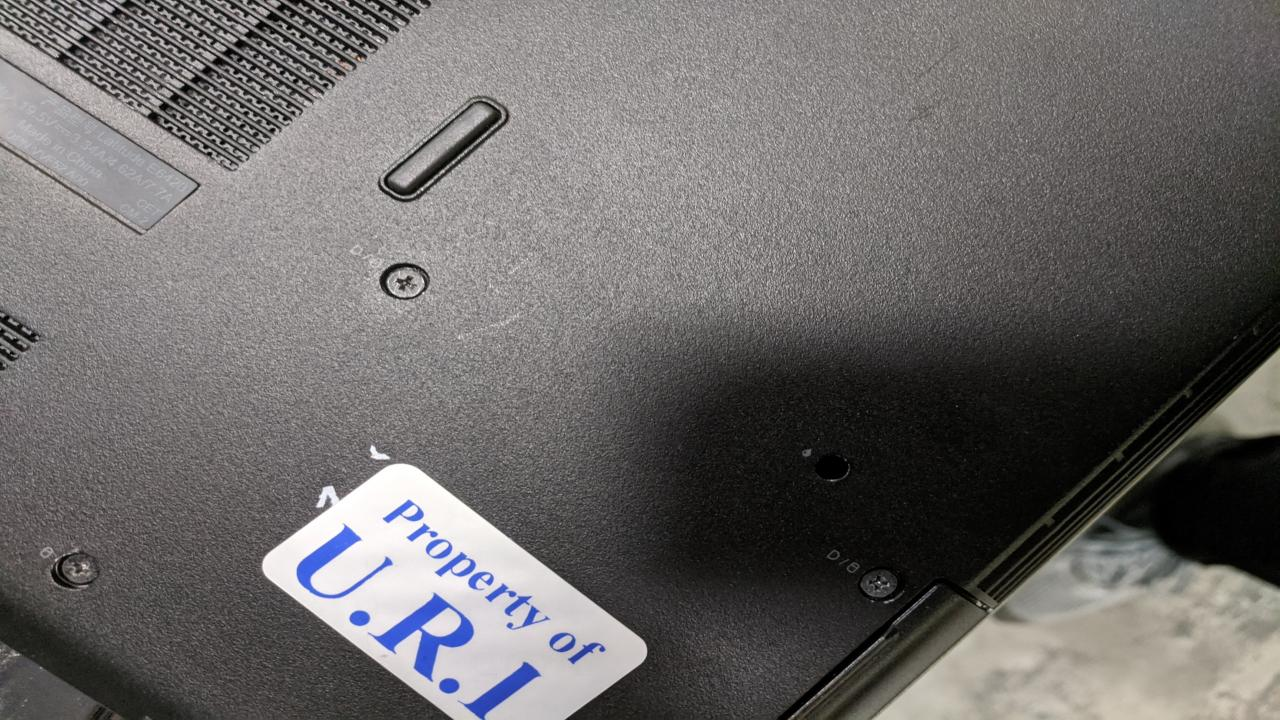CRS: (380, 260, 434, 302), (54, 547, 102, 587), (861, 566, 898, 600)
